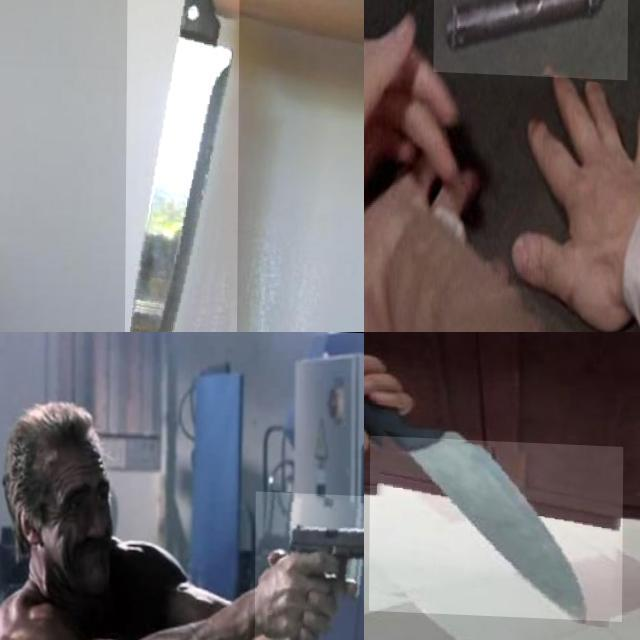-: (370, 434, 624, 618), (125, 0, 240, 332)
gun-knife-thesis - v11 Yolov5 augmented: (433, 0, 629, 107), (255, 488, 364, 640)
